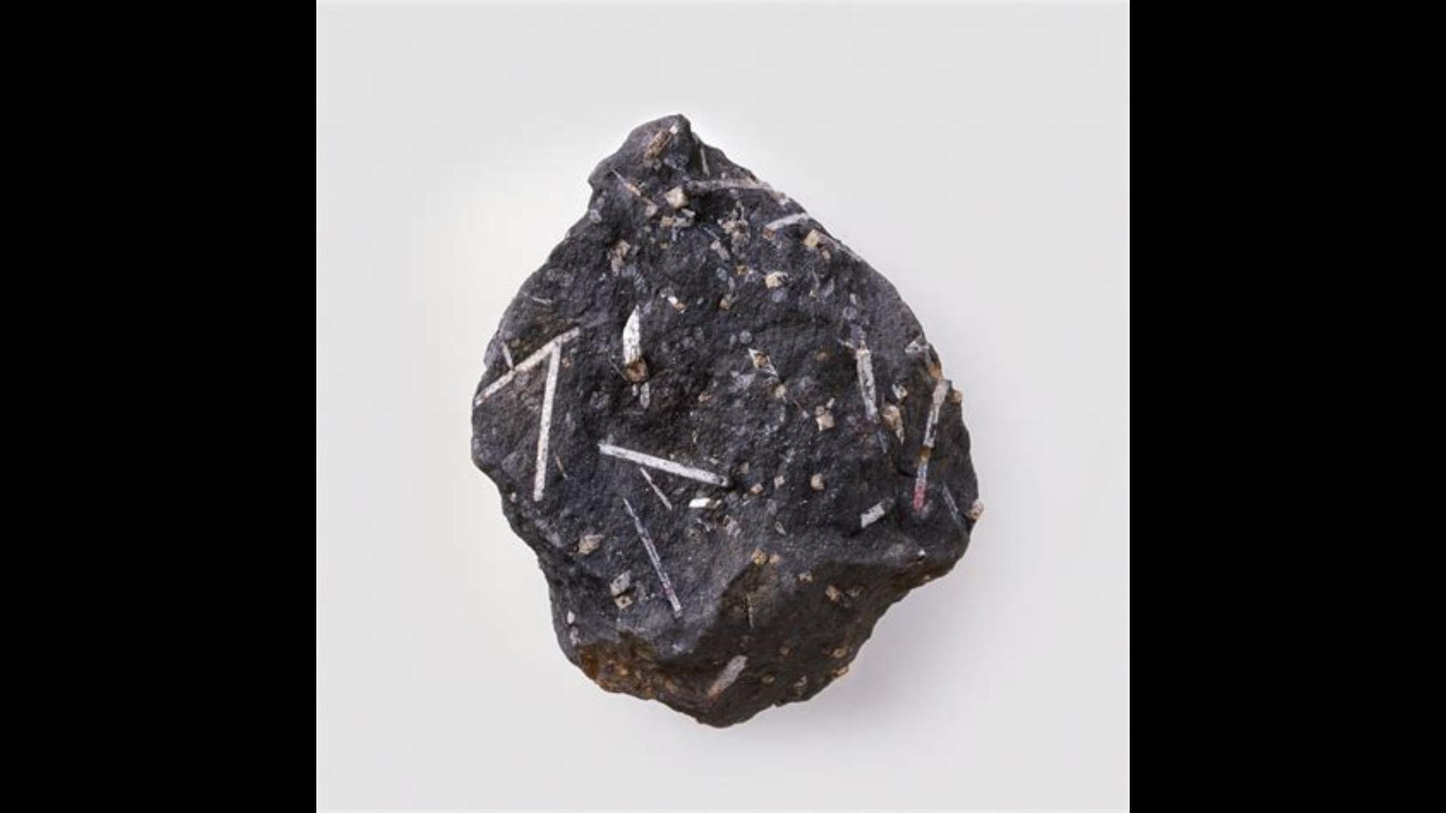rock: (472, 115, 975, 724)
